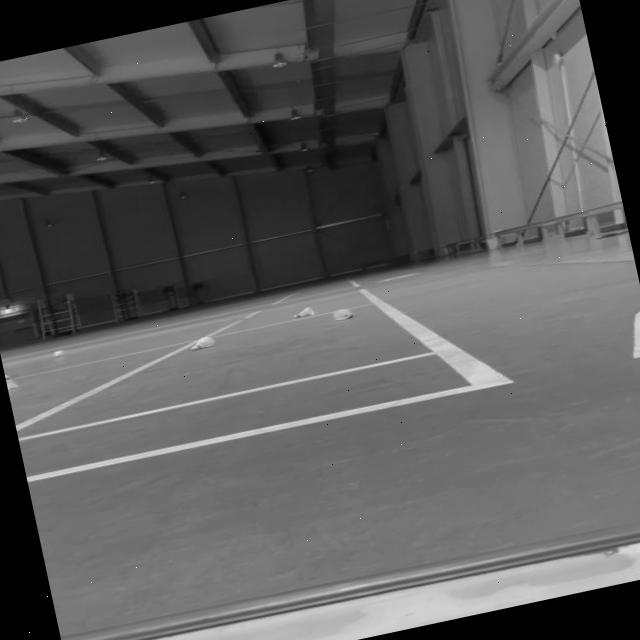Shuttle: (189, 332, 218, 350), (290, 305, 316, 320), (332, 306, 356, 322), (4, 372, 20, 390), (50, 348, 66, 359)
